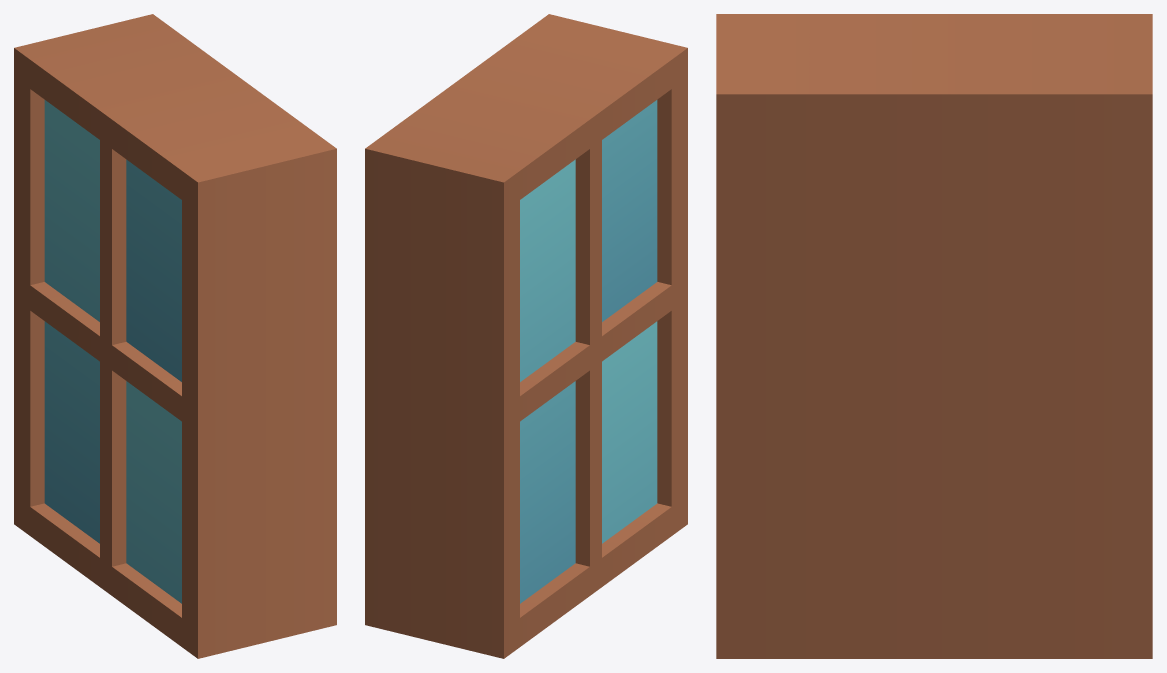
File: SM_Steet_Window_(POP).fbx
3 views of the same model, side by side, from view 1: azimuth 30°, elevation 25°; view 2: azimuth 150°, elevation 25°; view 3: azimuth 270°, elevation 25° (orthographic). The views are drawn at different scales.
Parts seen in each view (by area): view 1: Steet_Window_mash.005; view 2: Steet_Window_mash.005; view 3: Steet_Window_mash.005.
Boxes of the visible parts, x1,y1,x2,y2 form: Steet_Window_mash.005: [14, 14, 336, 658]; Steet_Window_mash.005: [365, 14, 687, 658]; Steet_Window_mash.005: [716, 14, 1152, 658].
Size of the model in its own units: 0.3051 by 1 by 0.7.
